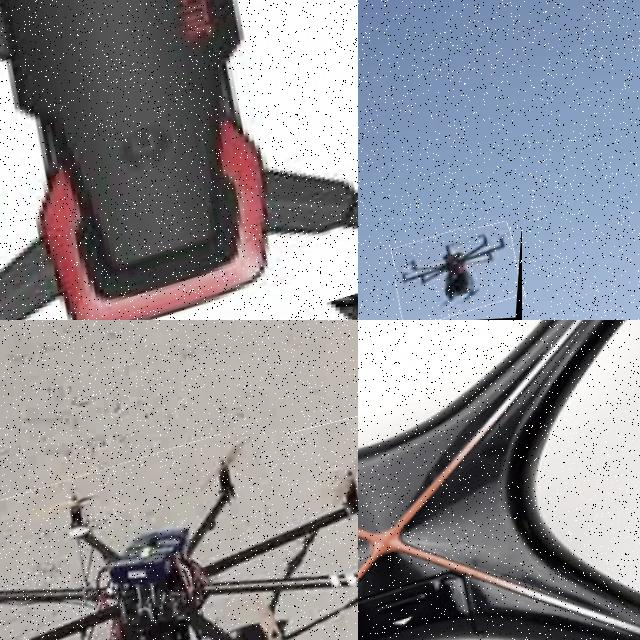0: (0, 434, 358, 640), (395, 228, 522, 320)
drone: (0, 0, 358, 320), (358, 320, 640, 640)
